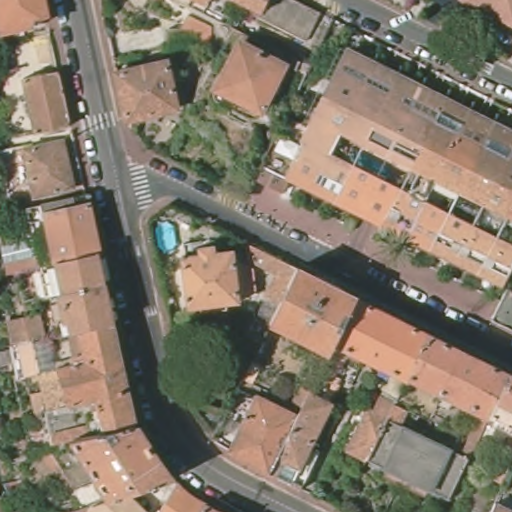pool: (151, 219, 183, 257)
